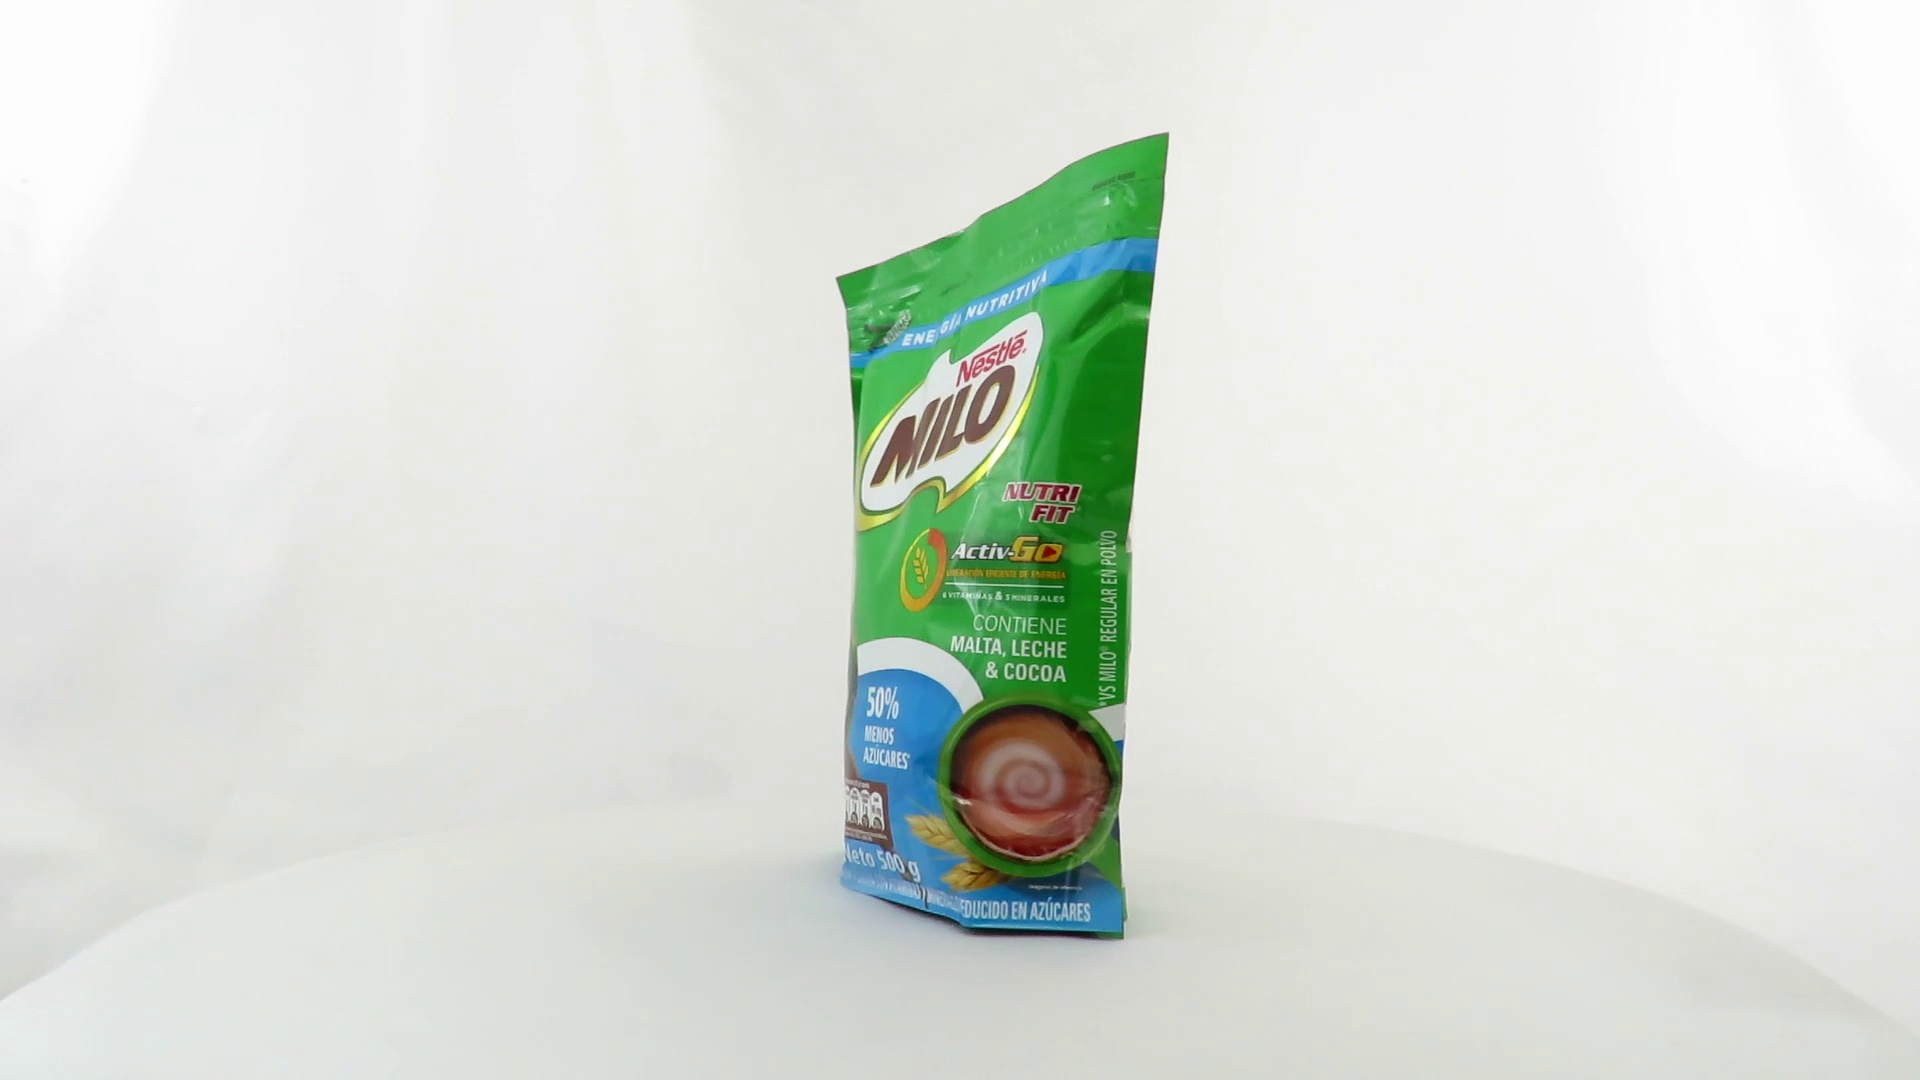COL0170205DYP50000: (829, 127, 1176, 947)
